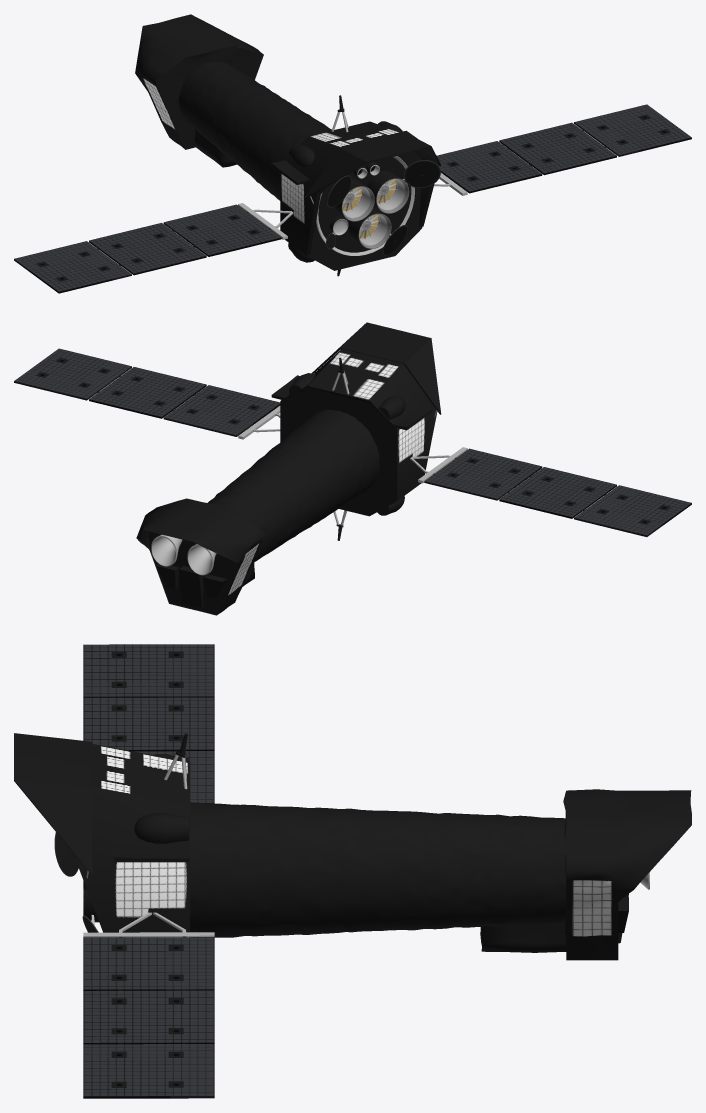
File: xmm_newton.fbx
3 renders of one model, top to bottom at view 1: azimuth 30°, elevation 25°; view 2: azimuth 150°, elevation 25°; view 3: azimuth 270°, elevation 25°, orthographic. The views are drawn at different scales.
Parts seen in each view (by area): view 1: XMM_Newton; view 2: XMM_Newton; view 3: XMM_Newton.
Boxes of the visible parts, <box> form: XMM_Newton: <box>14,14,691,293</box>; XMM_Newton: <box>14,322,691,615</box>; XMM_Newton: <box>14,644,691,1098</box>.
Bounding box in the file's own units: 1592 × 436 × 1010.
1 material, 1 textured.
